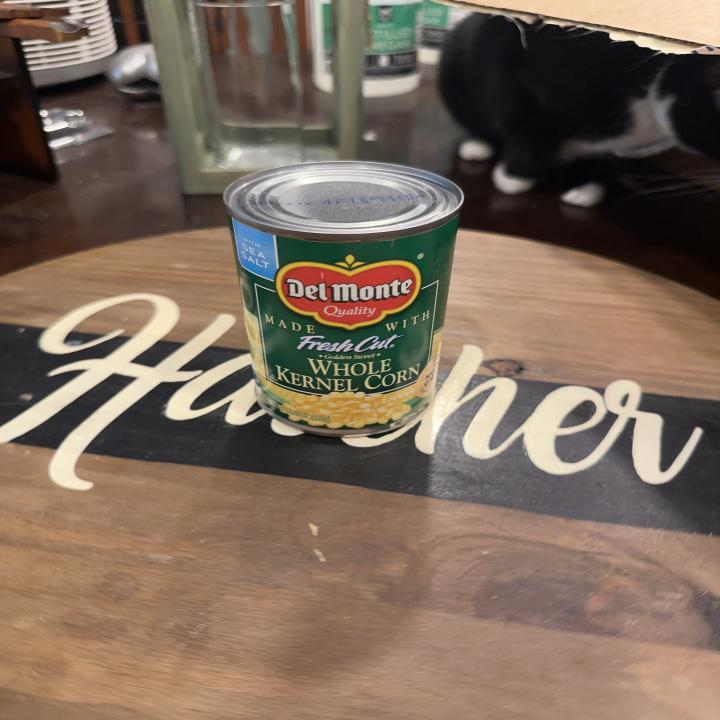Canned-Corn: (214, 157, 486, 431)
